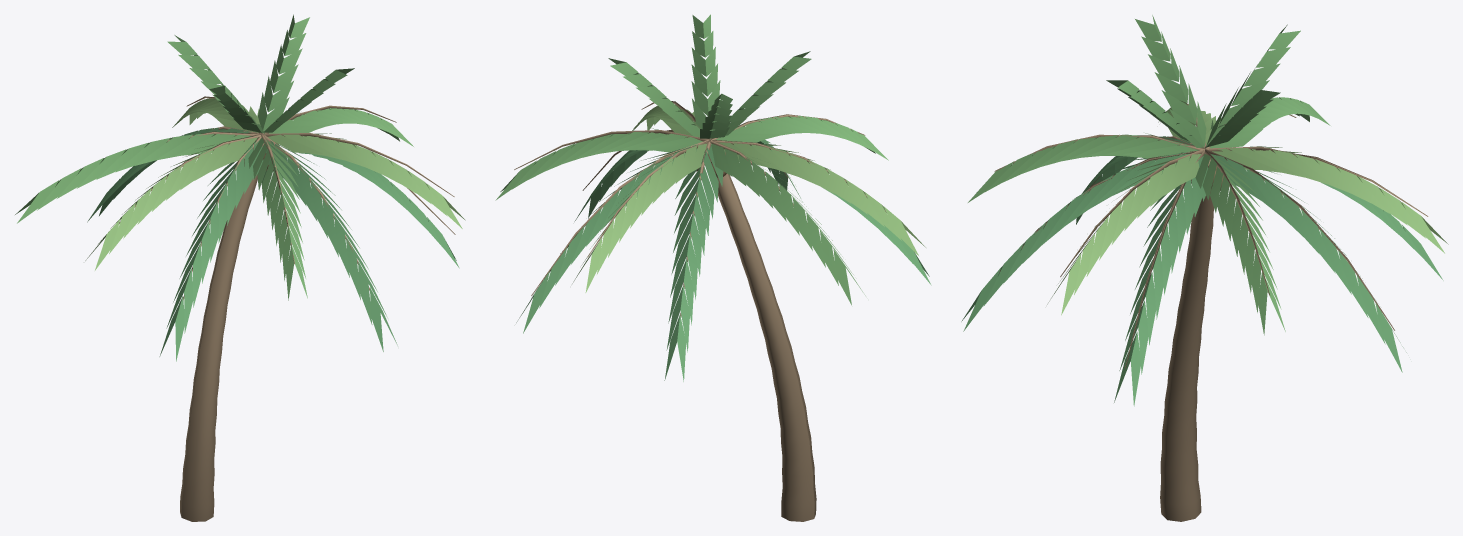
The model's file is palme_2.glb.
The picture shows the model from 3 angles, left to right: view 1: azimuth 30°, elevation 25°; view 2: azimuth 150°, elevation 25°; view 3: azimuth 270°, elevation 25°; orthographic projection. The views are drawn at different scales.
Visible parts, largest first — view 1: G_palme_2; view 2: G_palme_2; view 3: G_palme_2.
Boxes of the visible parts, x1,y1,x2,y2 form: G_palme_2: (15, 14, 465, 521); G_palme_2: (495, 14, 931, 521); G_palme_2: (961, 15, 1448, 521).
Bounding box in the file's own units: 8.49 × 9.33 × 8.25.
